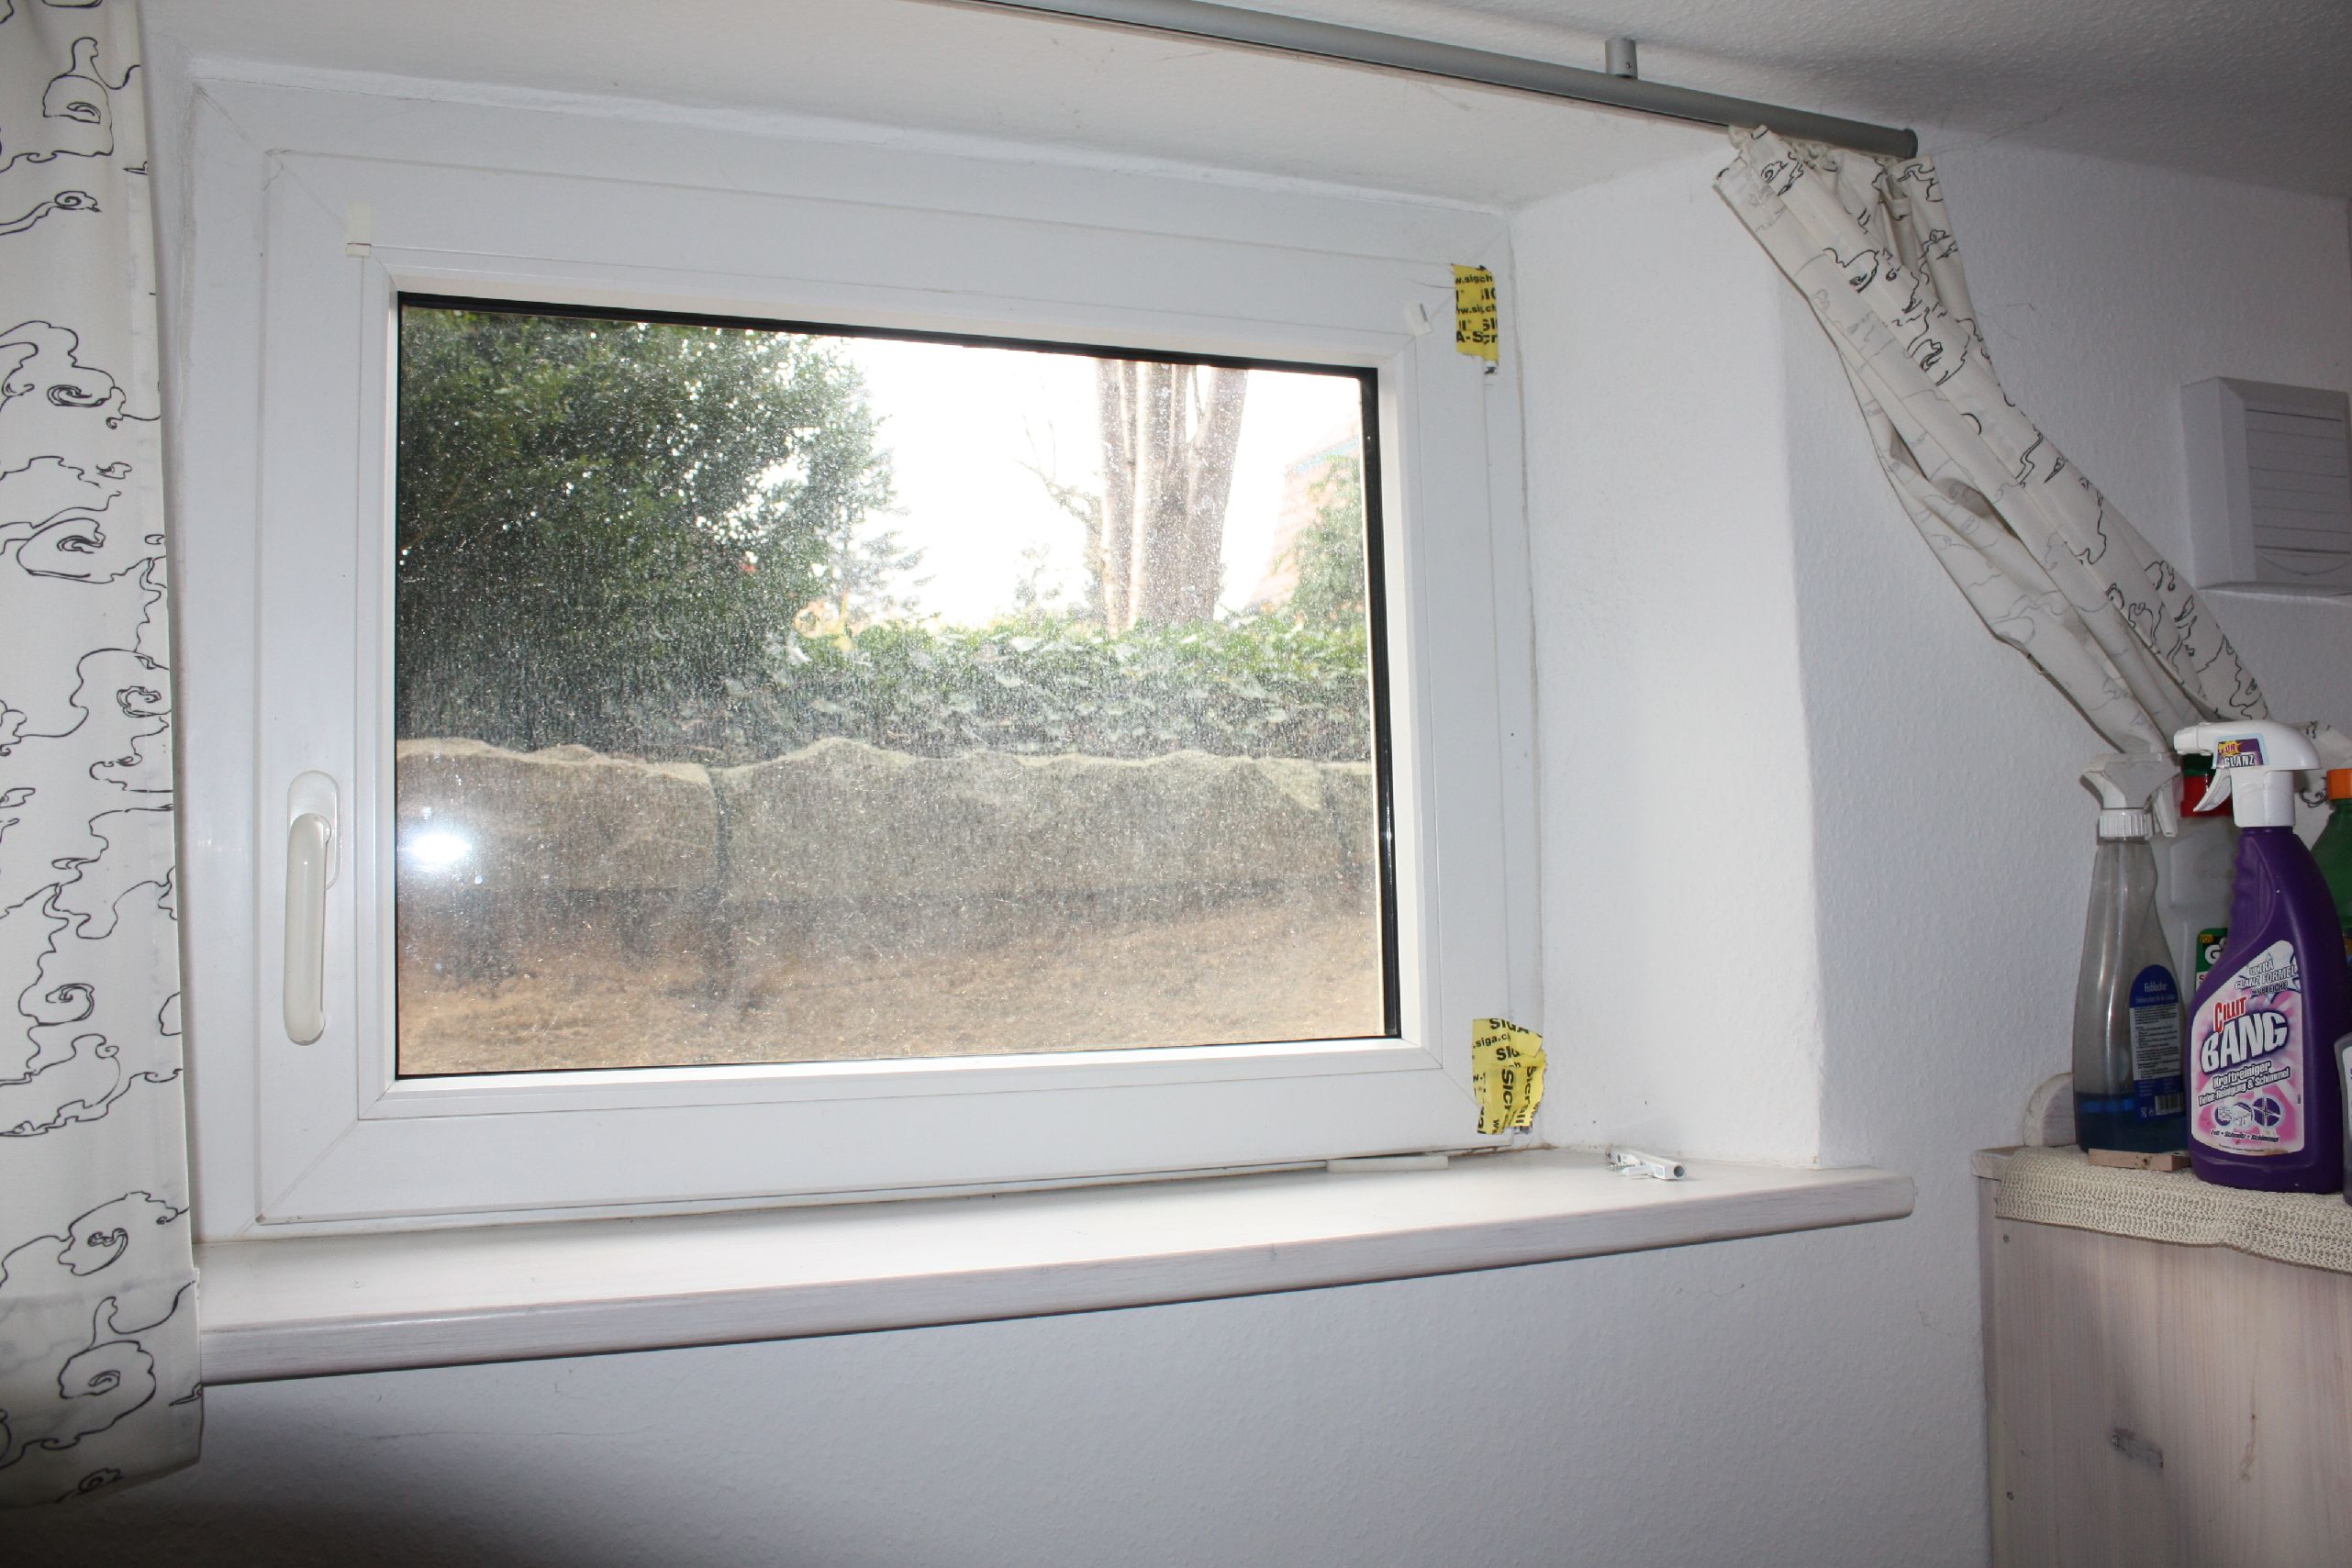windows: (245, 143, 1554, 1158)
